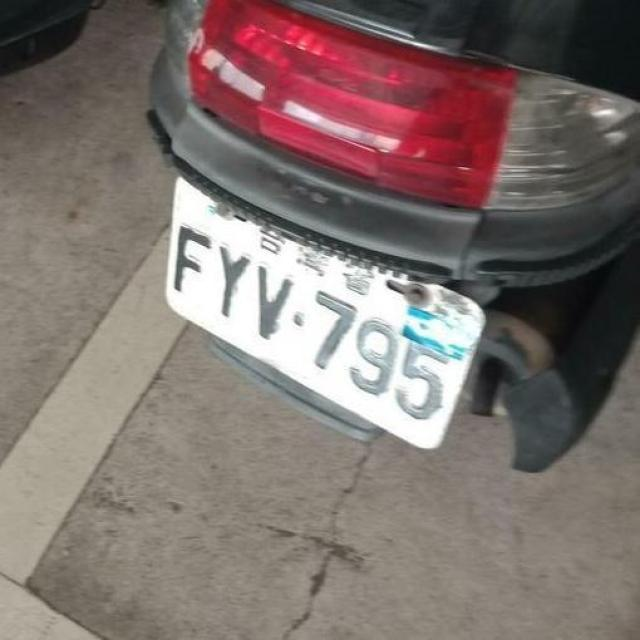W: (135, 175, 510, 470)
